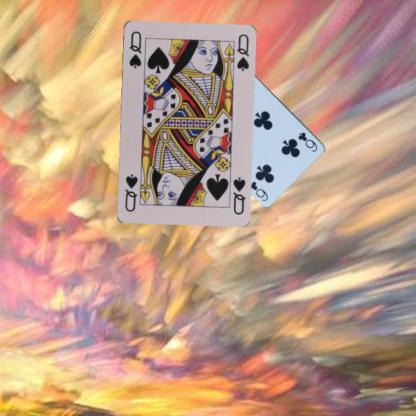6c: (296, 130, 319, 153)
Qs: (126, 29, 143, 70), (230, 174, 247, 215)
